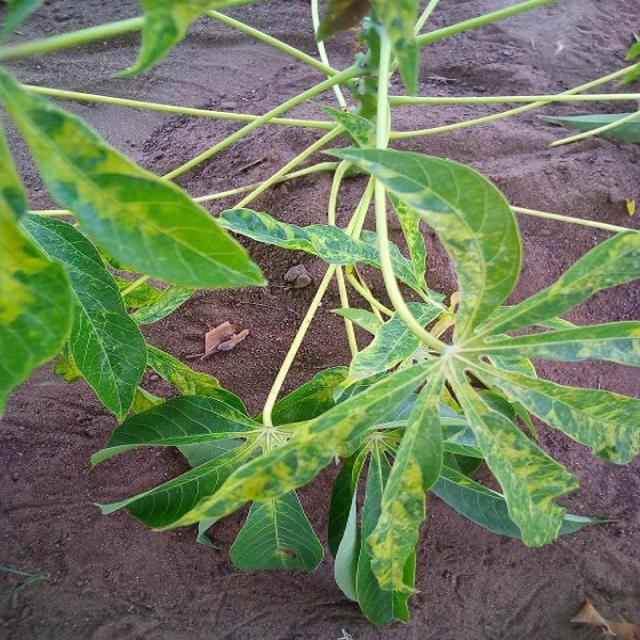cassava leaf: (0, 2, 638, 629), (0, 66, 268, 291), (322, 143, 523, 334), (17, 209, 147, 424)
